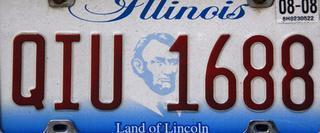placa de veiculo: (5, 2, 318, 133)
